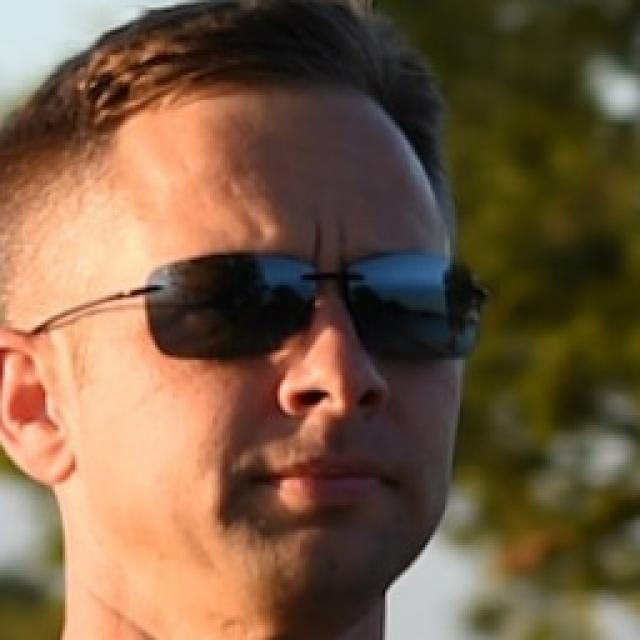glasses: (0, 232, 498, 378)
